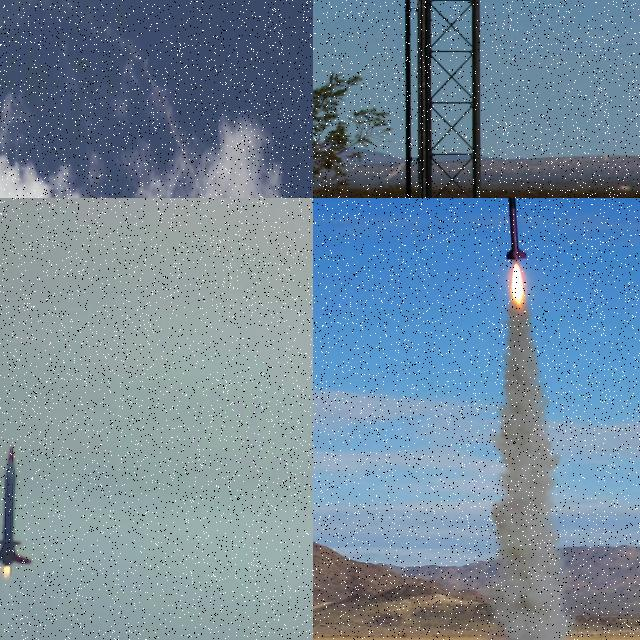Rocket: (0, 444, 32, 565), (505, 198, 527, 261)
